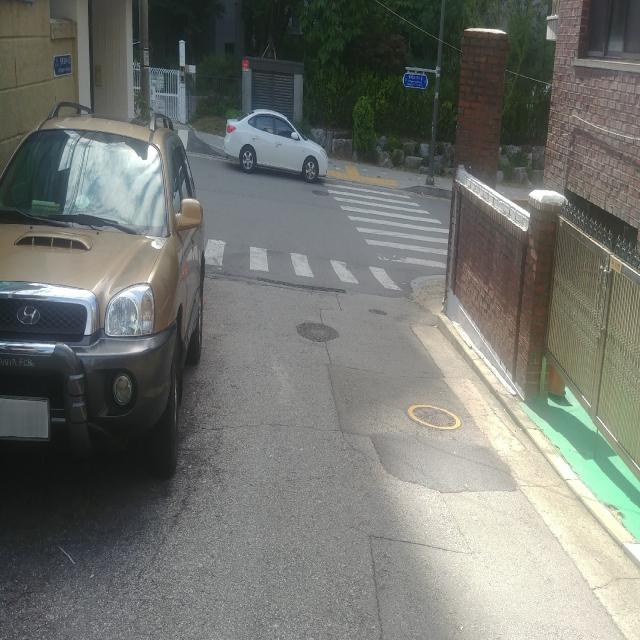횡단보도: (322, 182, 449, 268), (203, 243, 407, 296)
